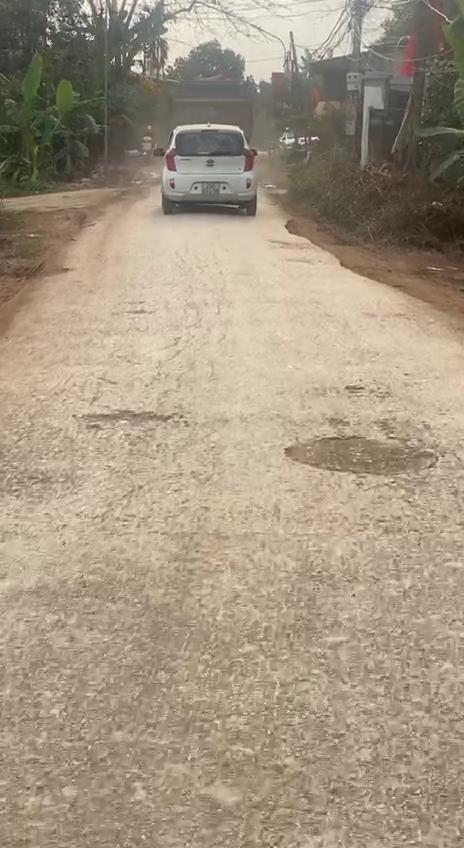pothole: (282, 433, 440, 480)
